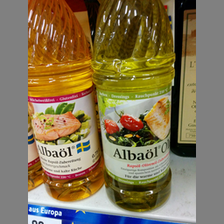oil: (92, 1, 175, 212), (28, 1, 103, 201)
